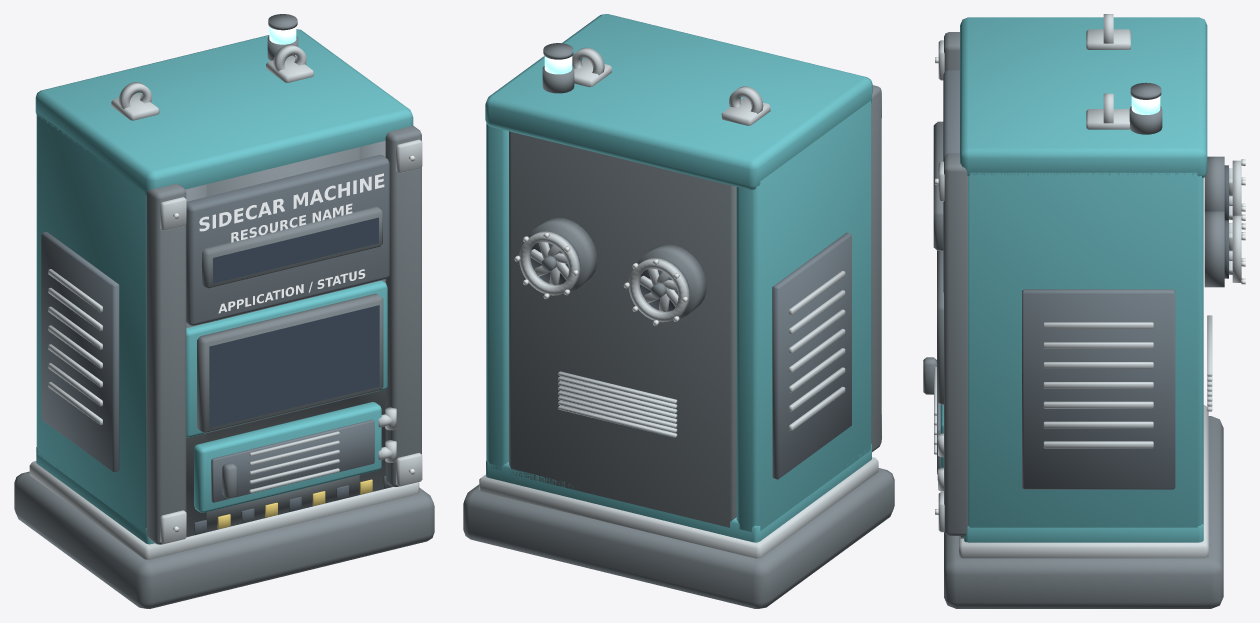
The model's file is sidecar_machine_enhanced.glb.
3 renders of one model, left to right at view 1: azimuth 30°, elevation 25°; view 2: azimuth 150°, elevation 25°; view 3: azimuth 270°, elevation 25°, orthographic. The views are drawn at different scales.
Parts seen in each view (by area): view 1: Roof_teal, CornerPost_frame, SideWall_teal, Skid_frame, FrontHeader_graphite, LiveViewSurface_glass, SideServicePanel_graphite, DoorMoving_Panel_teal, SkidDeck_steel, DoorMoving_Inset_graphite, LiveViewSurfaceFrame_frame, ResourceNameSurface_glass (+16 smaller); view 2: BackWall_frame, SideWall_teal, Roof_teal, Skid_frame, SideServicePanel_graphite, SkidDeck_steel, RearFan_steel, RearVent_steel, KickPlate_teal, CornerPost_frame, RearFan_frame, SideLouver_steel (+4 smaller); view 3: SideWall_teal, Roof_teal, SideServicePanel_graphite, Skid_frame, CornerPost_frame, SideLouver_steel, SkidDeck_steel, KickPlate_teal, RearFan_frame, LiftMount_steel, RearFan_steel, FrontHeader_graphite (+9 smaller).
Part boxes in pixels (x1,y1,x2,y2): Roof_teal: (35, 29, 413, 196); CornerPost_frame: (146, 126, 421, 544); SideWall_teal: (36, 113, 146, 532); Skid_frame: (14, 471, 434, 608); FrontHeader_graphite: (186, 154, 389, 325); LiveViewSurface_glass: (209, 305, 379, 427); SideServicePanel_graphite: (41, 231, 119, 472); DoorMoving_Panel_teal: (194, 402, 381, 512); SkidDeck_steel: (29, 461, 419, 559); DoorMoving_Inset_graphite: (211, 419, 374, 502); LiveViewSurfaceFrame_frame: (197, 293, 383, 433); ResourceNameSurface_glass: (213, 217, 378, 283); BackWall_frame: (509, 131, 736, 527); SideWall_teal: (486, 100, 871, 531); Roof_teal: (485, 14, 872, 189); Skid_frame: (463, 468, 894, 608); SideServicePanel_graphite: (772, 232, 851, 479); SkidDeck_steel: (479, 457, 878, 558); RearFan_steel: (519, 231, 689, 322); RearVent_steel: (558, 371, 677, 437); KickPlate_teal: (486, 444, 871, 542); CornerPost_frame: (871, 85, 881, 451); RearFan_frame: (528, 217, 706, 318); SideLouver_steel: (789, 270, 845, 430); SideWall_teal: (968, 172, 1203, 527); Roof_teal: (960, 17, 1207, 177); SideServicePanel_graphite: (1022, 289, 1175, 489); Skid_frame: (944, 416, 1223, 608); CornerPost_frame: (944, 32, 967, 535); SideLouver_steel: (1043, 322, 1153, 448); SkidDeck_steel: (959, 405, 1208, 558); KickPlate_teal: (964, 524, 1203, 542); RearFan_frame: (1204, 156, 1224, 287); LiftMount_steel: (1086, 29, 1130, 129); RearFan_steel: (1229, 160, 1241, 282); FrontHeader_graphite: (943, 70, 959, 292).
Bounding box in the file's own units: 1.45 × 2.18 × 1.29.
